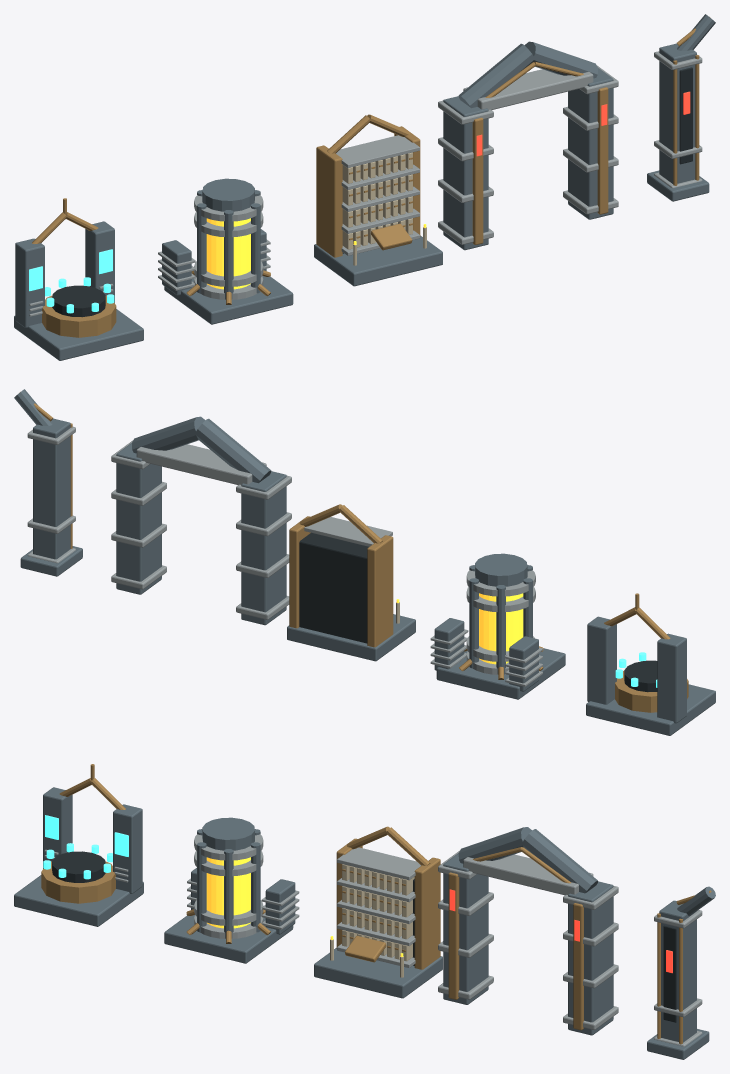
The model's file is noctis-kit.glb.
3 views of the same model, one above another, from view 1: azimuth 30°, elevation 25°; view 2: azimuth 150°, elevation 25°; view 3: azimuth 330°, elevation 25° (orthographic).
Parts seen in each view (by area): view 1: Bulkhead_Gunmetal, Power_Gunmetal, Relay_Gunmetal, Bulkhead_Worn pewter, Archives_Ancient brass, Buttress_Gunmetal, Archives_Ivory reliquary, Archives_Worn pewter, Archives_Gunmetal, Power_Worn pewter, Bulkhead_Ancient brass, Relay_Ancient brass (+6 smaller); view 2: Bulkhead_Gunmetal, Power_Gunmetal, Relay_Gunmetal, Archives_Recesses, Bulkhead_Worn pewter, Buttress_Gunmetal, Archives_Ancient brass, Power_Worn pewter, Archives_Gunmetal, Relay_Ancient brass, Power_Plasma amber, Archives_Worn pewter (+2 smaller); view 3: Bulkhead_Gunmetal, Power_Gunmetal, Relay_Gunmetal, Bulkhead_Worn pewter, Archives_Ancient brass, Buttress_Gunmetal, Archives_Ivory reliquary, Archives_Worn pewter, Power_Worn pewter, Archives_Gunmetal, Bulkhead_Ancient brass, Relay_Ancient brass (+6 smaller).
Part boxes in pixels (left/top/right/bottom): Bulkhead_Gunmetal: left=443, top=41, right=613, bottom=250; Power_Gunmetal: left=162, top=178, right=293, bottom=324; Relay_Gunmetal: left=14, top=221, right=143, bottom=360; Bulkhead_Worn pewter: left=438, top=65, right=618, bottom=244; Archives_Ancient brass: left=316, top=114, right=420, bottom=257; Buttress_Gunmetal: left=647, top=14, right=715, bottom=201; Archives_Ivory reliquary: left=342, top=152, right=426, bottom=265; Archives_Worn pewter: left=336, top=135, right=419, bottom=255; Archives_Gunmetal: left=314, top=235, right=442, bottom=286; Power_Worn pewter: left=158, top=195, right=270, bottom=299; Bulkhead_Ancient brass: left=472, top=61, right=608, bottom=244; Relay_Ancient brass: left=32, top=198, right=116, bottom=337; Bulkhead_Gunmetal: left=116, top=416, right=286, bottom=625; Power_Gunmetal: left=434, top=553, right=565, bottom=699; Relay_Gunmetal: left=586, top=616, right=715, bottom=735; Archives_Recesses: left=299, top=532, right=368, bottom=643; Bulkhead_Worn pewter: left=111, top=440, right=291, bottom=619; Buttress_Gunmetal: left=14, top=389, right=82, bottom=576; Archives_Ancient brass: left=289, top=504, right=393, bottom=647; Power_Worn pewter: left=430, top=570, right=542, bottom=686; Archives_Gunmetal: left=287, top=614, right=415, bottom=661; Relay_Ancient brass: left=604, top=593, right=688, bottom=712; Power_Plasma amber: left=479, top=593, right=523, bottom=664; Archives_Worn pewter: left=304, top=517, right=392, bottom=546; Bulkhead_Gunmetal: left=443, top=827, right=613, bottom=1035; Power_Gunmetal: left=164, top=817, right=295, bottom=963; Relay_Gunmetal: left=14, top=787, right=143, bottom=926; Bulkhead_Worn pewter: left=438, top=850, right=618, bottom=1029; Archives_Ancient brass: left=336, top=826, right=440, bottom=969; Buttress_Gunmetal: left=647, top=886, right=715, bottom=1059; Archives_Ivory reliquary: left=330, top=864, right=414, bottom=977; Archives_Worn pewter: left=337, top=847, right=420, bottom=967; Power_Worn pewter: left=187, top=834, right=299, bottom=938; Archives_Gunmetal: left=314, top=948, right=442, bottom=998; Bulkhead_Ancient brass: left=448, top=847, right=583, bottom=1030; Relay_Ancient brass: left=41, top=764, right=125, bottom=903.
Bounding box in the file's own units: 13.63 × 3.47 × 1.65.
